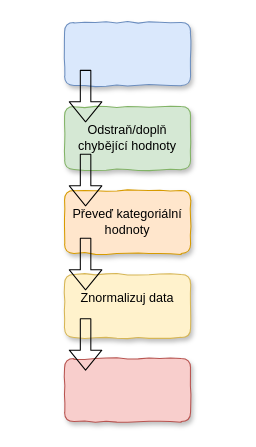
This 256x447 diagram has some shape labels left out. The shapes that lost their labels are listed below. From the top down, each one's centre as x and y in pixels, then its label:
At [128,55]: "Načti data".
At [128,391]: "Rozděl na trénovací, validační a testovací množiny".
